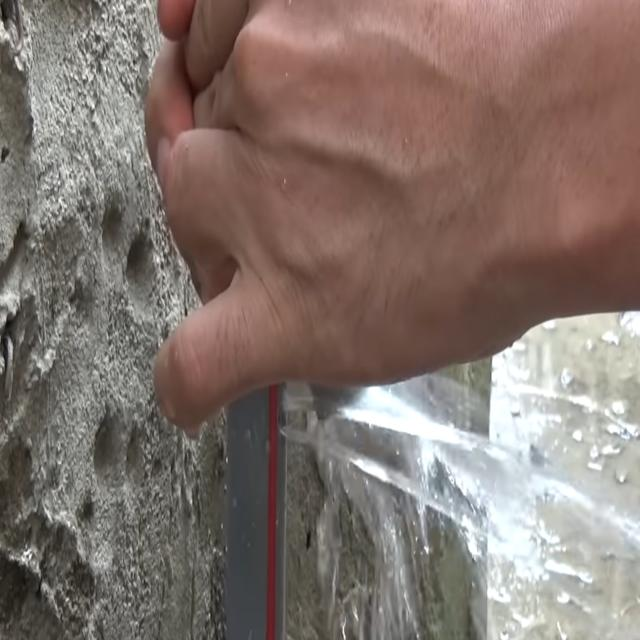leak: (282, 376, 640, 638)
